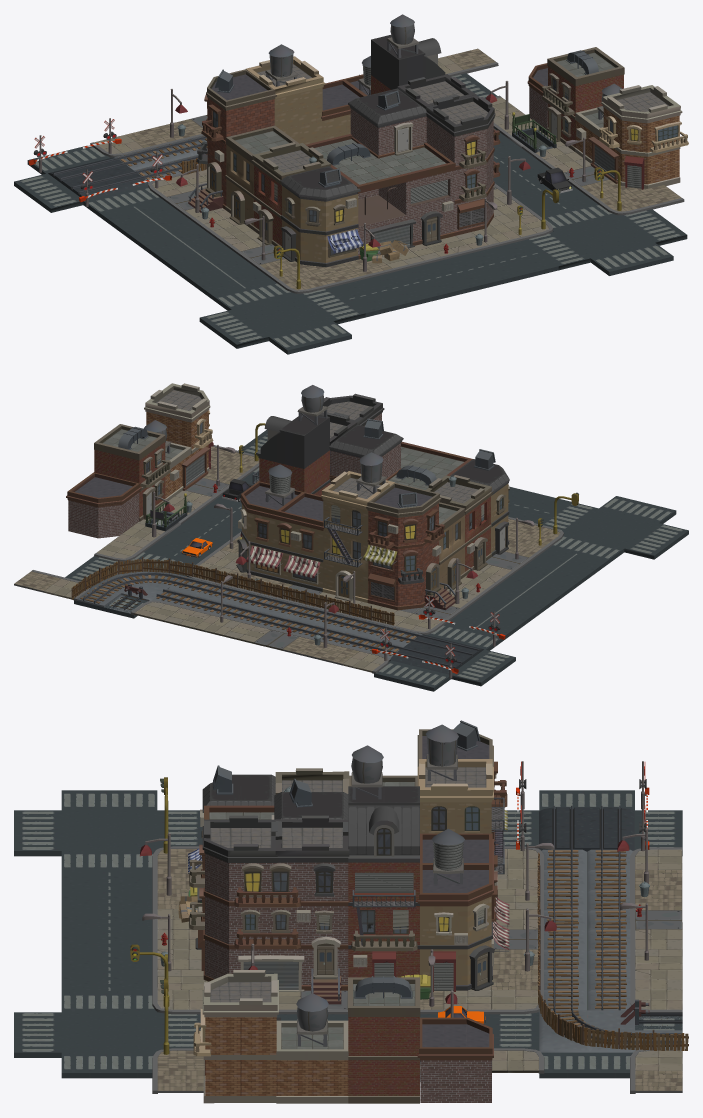
The model's file is city.glb.
3 renders of one model, top to bottom at view 1: azimuth 30°, elevation 25°; view 2: azimuth 150°, elevation 25°; view 3: azimuth 270°, elevation 25°, orthographic. The views are drawn at different scales.
Parts seen in each view (by area): view 1: Bock_A5__1_, Bock_E1__2__1, Bock_E1__2_, Asphalt_A__1_, Asphalt_B__1_, Asphalt_A__1__2, Asphalt_C__3_, Bock_D5__2_, Bock_B5__2_, Sidewalk_A0__4_, Sidewalk_A0__2__1_1-M_City_Extended, Bock_D1__1__1 (+17 smaller); view 2: Bock_A5__1_, Sidewalk_A0__2__1-M_City_Extended, Bock_B5__2_, Bock_D1__1_, Asphalt_A__1_, Bock_D1__1__1, Sidewalk_A0__2__1_1-M_City_Extended, Asphalt_C__3_, Window_F01, Bock_E1__2__1, Sidewalk_A0__2__1-M_City, Asphalt_A__1__1 (+17 smaller); view 3: Bock_A5__1_, Bock_E1__2_, Window_F01, Sidewalk_A0__2__1-M_City_Extended, Bock_D1__1_, Asphalt_A__1__2, Asphalt_A__1_, Asphalt_B__1_, Sidewalk_A0__2__1_1-M_City_Extended, Bock_D1__1__1, Sidewalk_A0__2__1-M_City, Sidewalk_A0__4_ (+12 smaller).
Boxes of the visible parts, box(x1,y1,x2,y2) form: Bock_A5__1_: box(527, 47, 688, 189); Bock_E1__2__1: box(305, 88, 455, 259); Bock_E1__2_: box(397, 74, 500, 235); Asphalt_A__1_: box(199, 281, 365, 354); Asphalt_B__1_: box(330, 240, 558, 317); Asphalt_A__1__2: box(523, 203, 687, 275); Asphalt_C__3_: box(102, 199, 273, 299); Bock_D5__2_: box(280, 166, 363, 267); Bock_B5__2_: box(188, 69, 276, 212); Sidewalk_A0__4_: box(274, 215, 553, 293); Sidewalk_A0__2__1_1-M_City_Extended: box(28, 135, 207, 202); Bock_D1__1__1: box(246, 44, 325, 144); Bock_A5__1_: box(66, 383, 213, 538); Sidewalk_A0__2__1-M_City_Extended: box(71, 557, 327, 630); Bock_B5__2_: box(363, 482, 455, 610); Bock_D1__1_: box(236, 464, 324, 591); Asphalt_A__1_: box(542, 496, 688, 564); Bock_D1__1__1: box(321, 452, 394, 602); Sidewalk_A0__2__1_1-M_City_Extended: box(285, 594, 505, 674); Asphalt_C__3_: box(447, 547, 606, 640); Window_F01: box(252, 385, 330, 495); Bock_E1__2__1: box(329, 418, 472, 489); Sidewalk_A0__2__1-M_City: box(14, 570, 298, 646); Asphalt_A__1__1: box(374, 623, 515, 691); Bock_A5__1_: box(193, 970, 493, 1103); Bock_E1__2_: box(189, 815, 349, 1004); Window_F01: box(348, 745, 419, 977); Sidewalk_A0__2__1-M_City_Extended: box(537, 902, 688, 1052); Bock_D1__1_: box(417, 828, 509, 991); Asphalt_A__1__2: box(14, 992, 200, 1078); Asphalt_A__1_: box(14, 790, 202, 870); Asphalt_B__1_: box(61, 871, 152, 991); Sidewalk_A0__2__1_1-M_City_Extended: box(516, 787, 649, 924); Bock_D1__1__1: box(417, 724, 504, 919); Sidewalk_A0__2__1-M_City: box(620, 903, 682, 1093); Sidewalk_A0__4_: box(152, 846, 208, 1014).
Size of the model in its own units: 46.71 by 16.64 by 42.08.
Materials: 3 (3 with a texture image).
